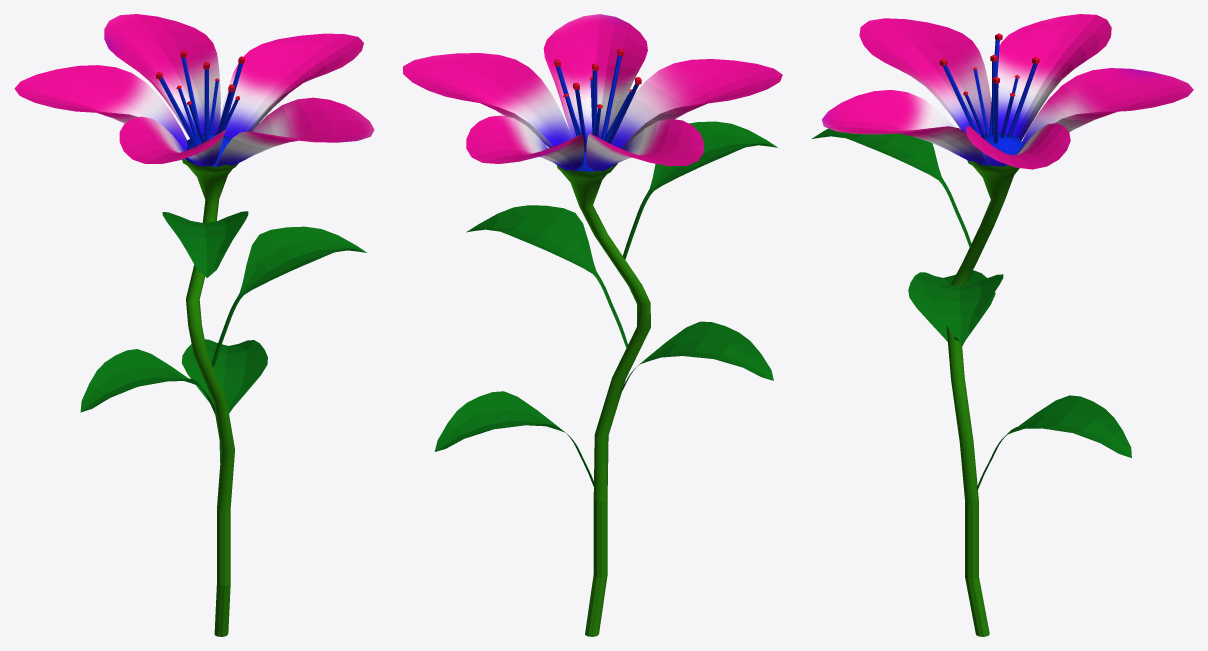
Rendered from LILY.fbx.
3 renders of one model, left to right at view 1: azimuth 30°, elevation 25°; view 2: azimuth 150°, elevation 25°; view 3: azimuth 270°, elevation 25°, orthographic.
Visible parts, largest first — view 1: Flower, Leaf.001, Leaf, Leaf.003, Leaf.002, Cut Leaf; view 2: Flower, Leaf.001, Leaf.003, Leaf, Leaf.002, Cut Leaf; view 3: Flower, Leaf.003, Leaf.001, Leaf.002, Cut Leaf, Leaf.
Part boxes in pixels (bbox=[...]): Flower: bbox=[14, 14, 374, 511]; Leaf.001: bbox=[211, 226, 366, 367]; Leaf: bbox=[80, 349, 215, 414]; Leaf.003: bbox=[181, 339, 267, 462]; Leaf.002: bbox=[162, 211, 248, 277]; Cut Leaf: bbox=[214, 509, 230, 636]; Flower: bbox=[403, 14, 782, 501]; Leaf.001: bbox=[466, 205, 627, 347]; Leaf.003: bbox=[434, 391, 596, 487]; Leaf: bbox=[619, 321, 773, 393]; Leaf.002: bbox=[623, 121, 777, 259]; Cut Leaf: bbox=[585, 499, 607, 636]; Flower: bbox=[821, 14, 1193, 504]; Leaf.003: bbox=[976, 395, 1131, 489]; Leaf.001: bbox=[916, 274, 1003, 341]; Leaf.002: bbox=[812, 128, 971, 247]; Cut Leaf: bbox=[965, 501, 989, 636]; Leaf: bbox=[908, 270, 995, 345].
Size of the model in its own units: 124 by 210 by 127.
